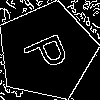P: (21, 27, 78, 77)
